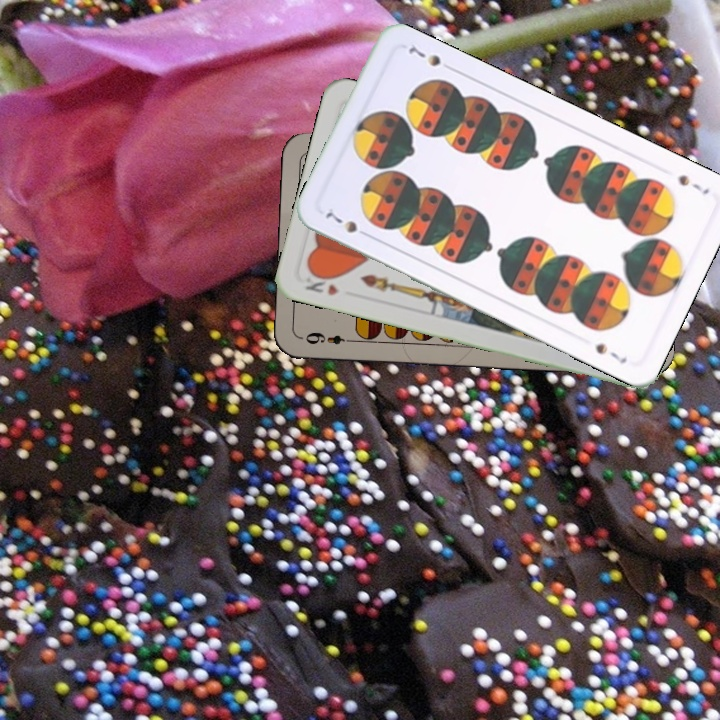E9: (302, 328, 358, 348)
HK: (301, 267, 341, 298)
S7: (321, 207, 374, 241), (674, 170, 712, 197)
